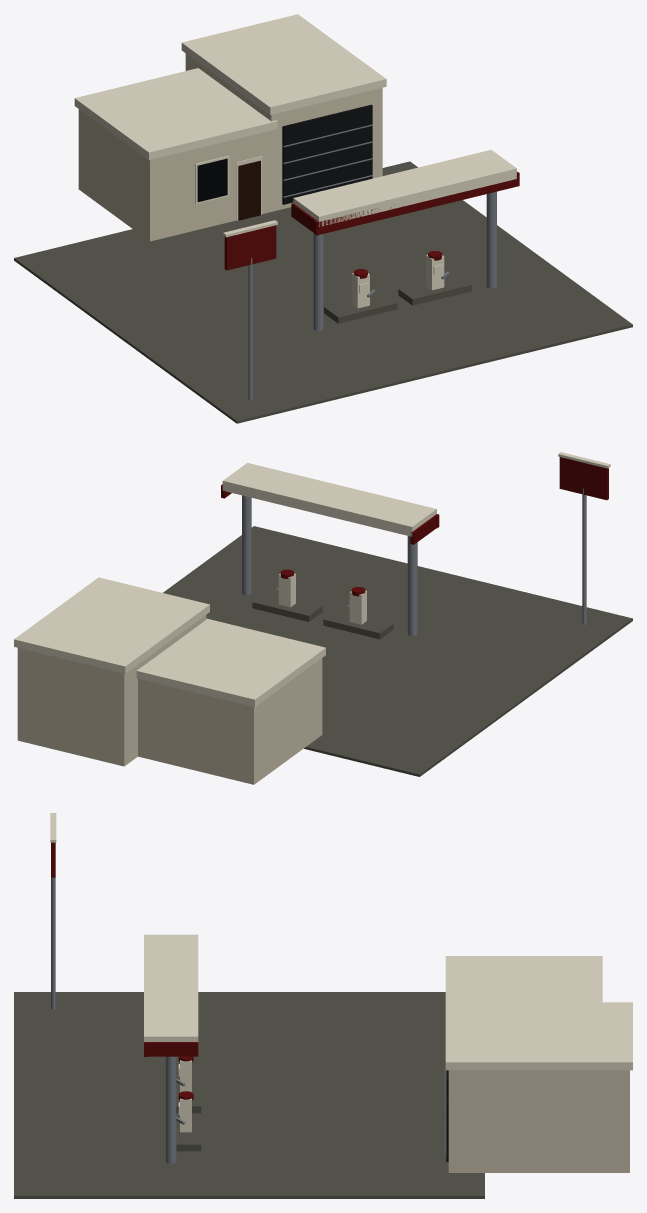
Rendered from ServiceStation.obj.
3 renders of one model, top to bottom at view 1: azimuth 30°, elevation 25°; view 2: azimuth 150°, elevation 25°; view 3: azimuth 270°, elevation 25°, orthographic. The views are drawn at different scales.
Parts seen in each view (by area): view 1: ServiceStation; view 2: ServiceStation; view 3: ServiceStation.
Part boxes in pixels (box(x1,y1,x2,y2)): ServiceStation: box(14, 14, 632, 423); ServiceStation: box(14, 452, 632, 784); ServiceStation: box(14, 813, 632, 1198).
Size of the model in its own units: 16 by 6.75 by 20.5.
